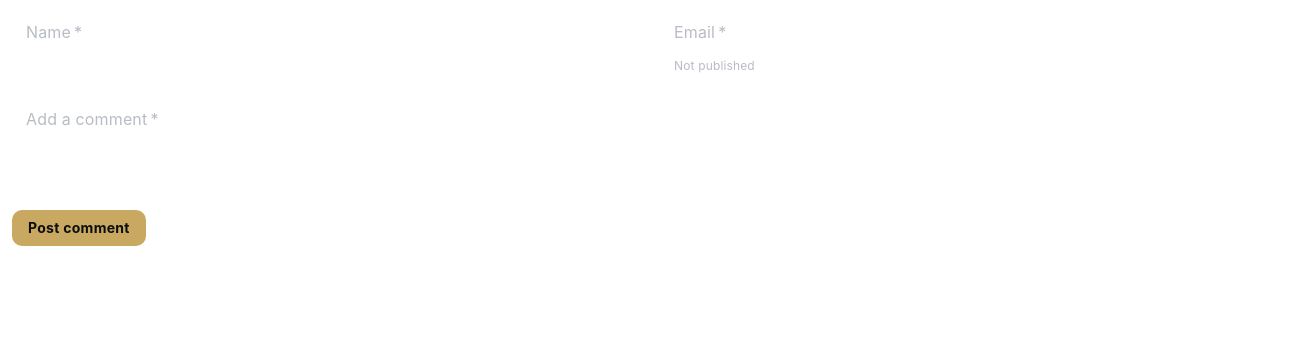
Scenario: CommentForm (anonymous visitor) › requires a name, email, and body before submitting
The image size is (1304, 337).
Click the button "Post comment" at (79, 228), box [12,210,146,246]
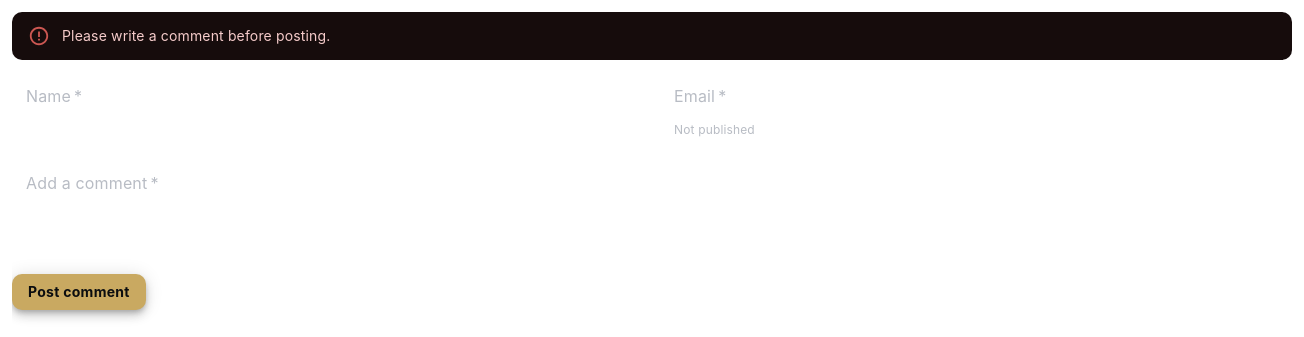
expect the message shows "write a comment": met, box [62,27,330,44]
